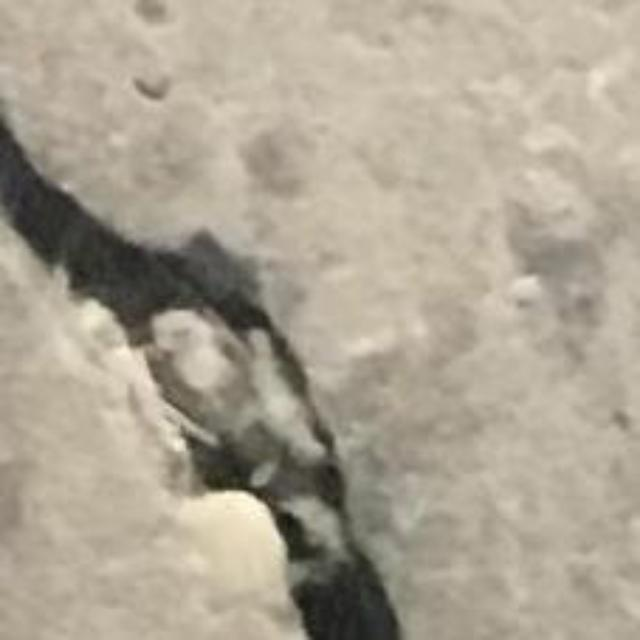crack: (0, 122, 400, 639)
